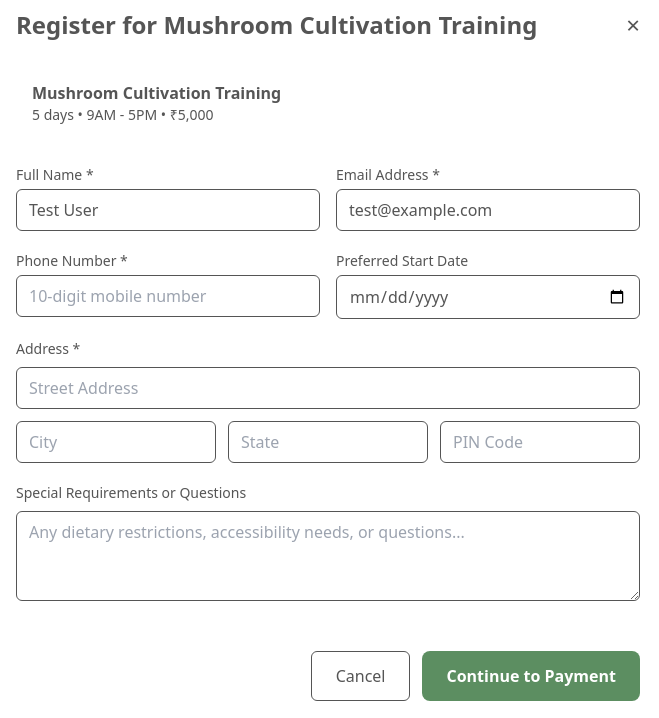
RegistrationModal Validation › only allows digits in PIN code field and limits to 6
The image size is (659, 718).
Type "abc248142xyz99" into the field with placeholder "PIN Code" at (540, 442), box top-left (440, 421), bottom-right (640, 463)
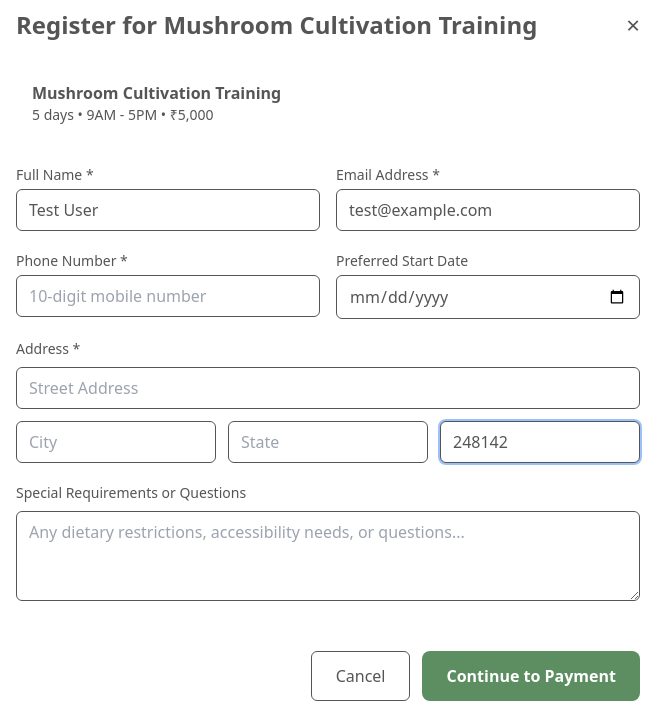
Check: the 3rd field with placeholder "PIN Code" holds "248142", box top-left (440, 421), bottom-right (640, 463)
